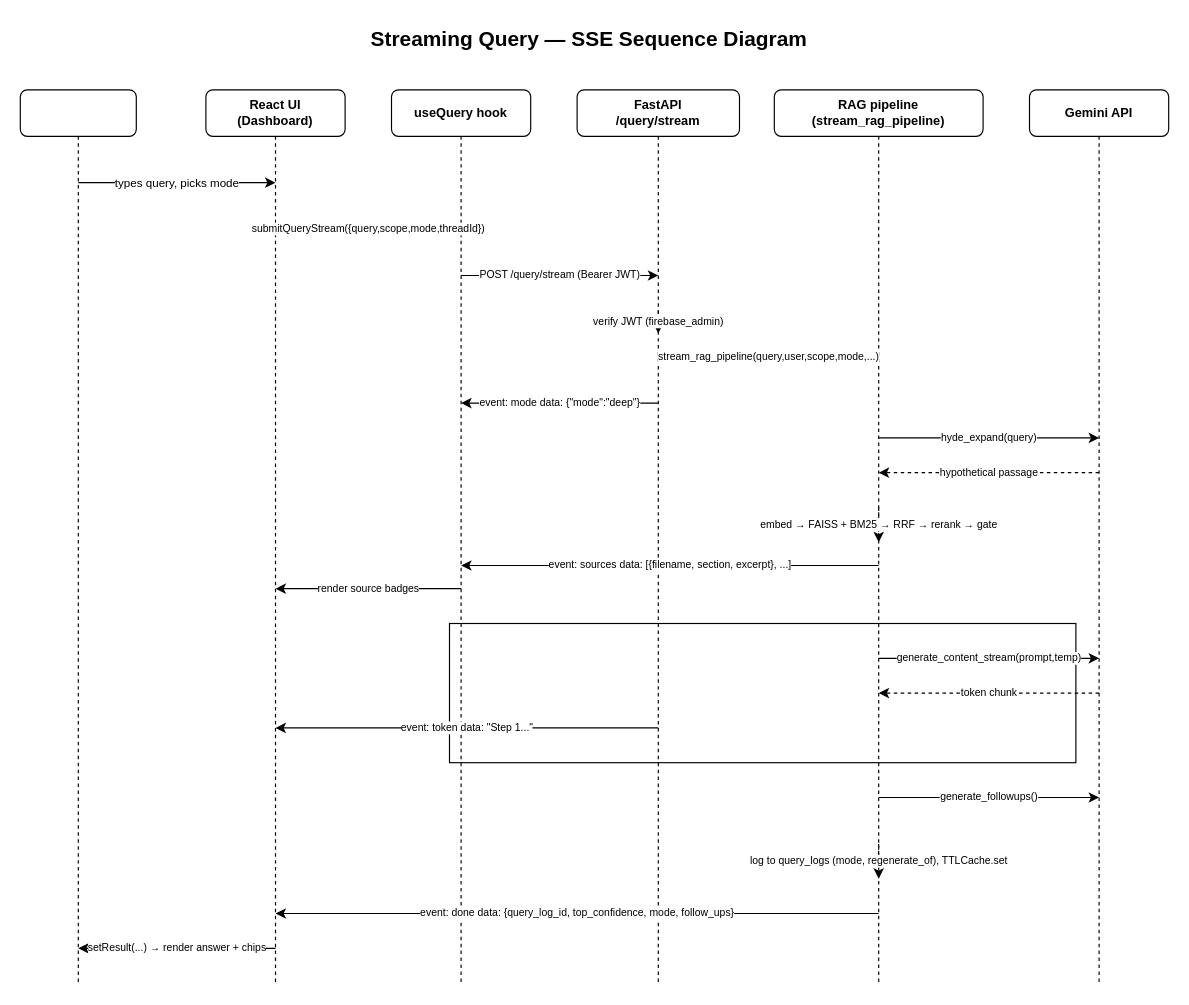
The diagram is 1189 pixels wide and 1005 high, and some of its shapes have lost their labels. The shapes that lost their labels are listed below. From the top down, each one's box as (x1, y1, x2, y2) in pixels, then its label:
(19, 89, 136, 136): User
(448, 622, 1076, 763): loop [for each token from Gemini]
